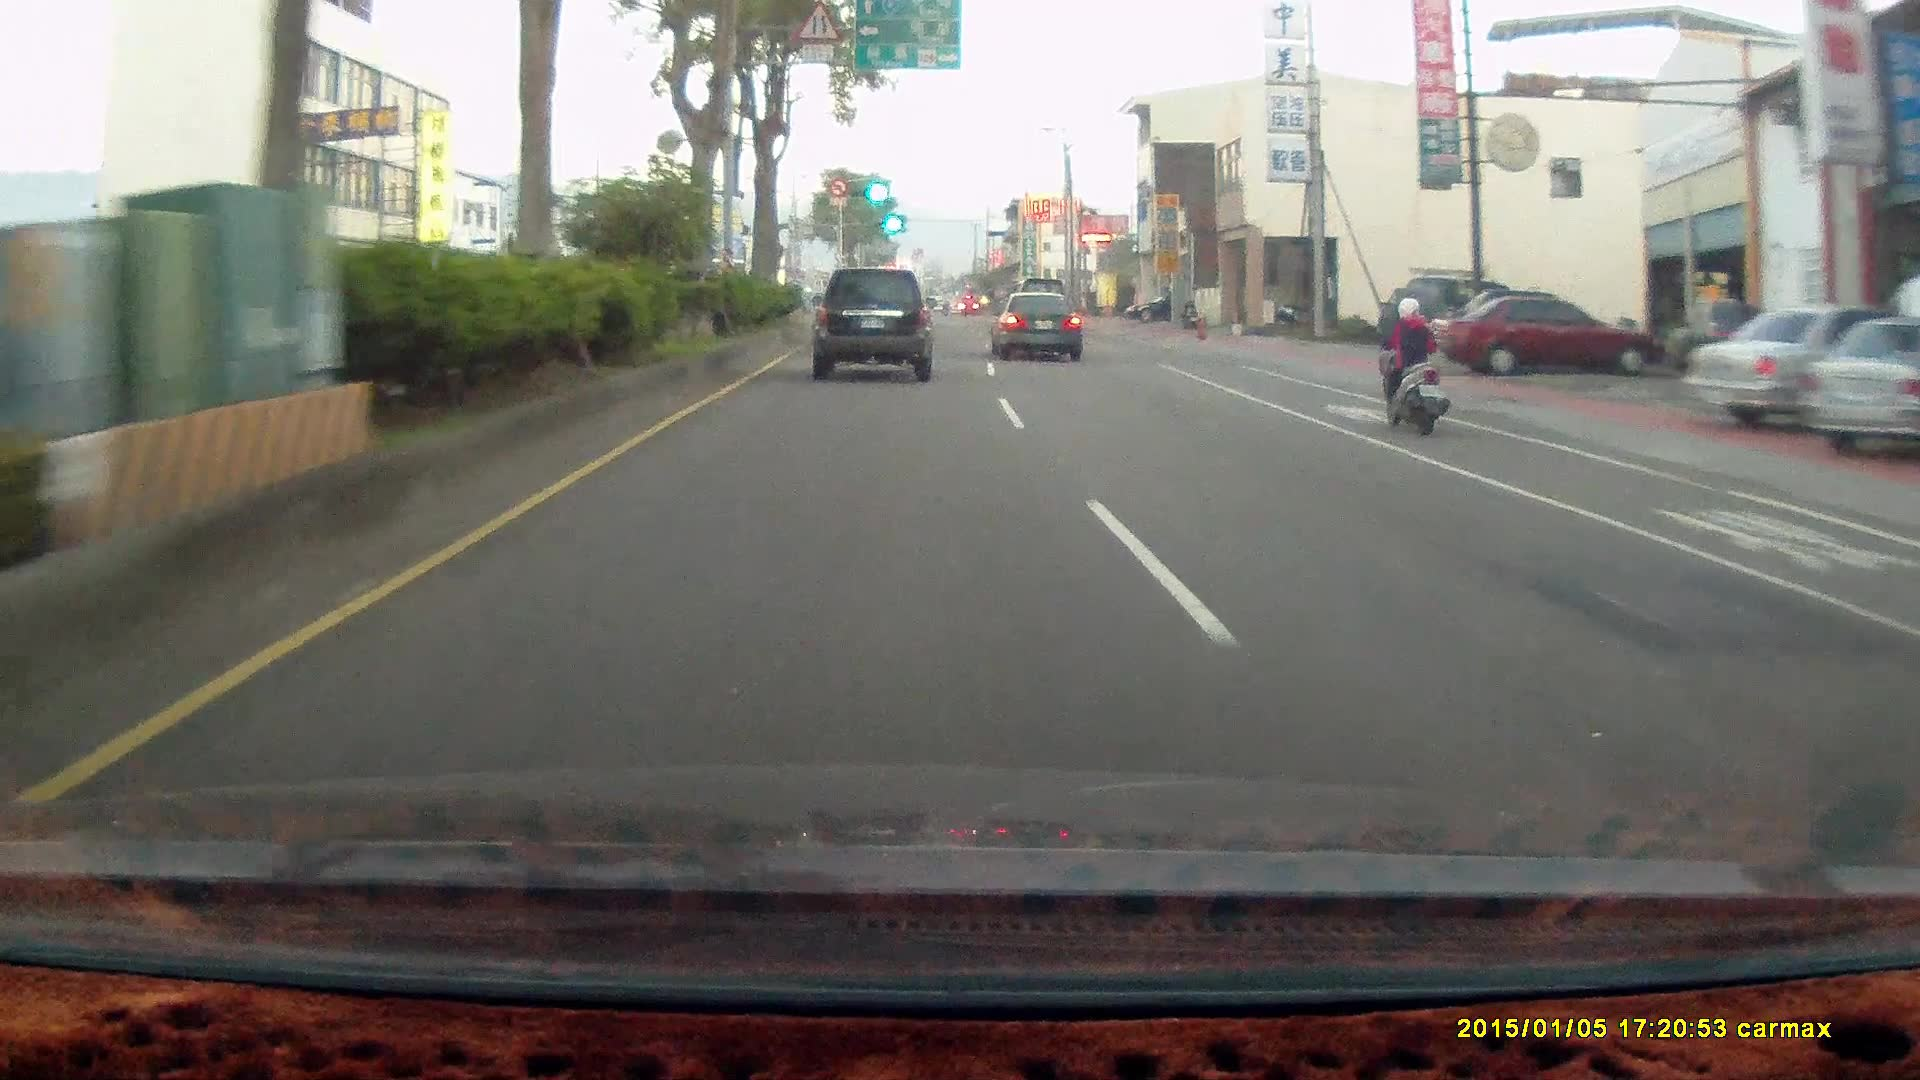rider: (1364, 285, 1462, 448), (1372, 292, 1446, 432)
vehicle: (1686, 306, 1900, 435), (1427, 295, 1660, 376), (1437, 297, 1655, 383), (1795, 315, 1920, 460), (1793, 315, 1920, 454), (811, 272, 937, 387), (812, 270, 934, 383), (1391, 273, 1528, 363), (1393, 275, 1520, 358), (1662, 299, 1768, 373), (992, 291, 1085, 362), (987, 287, 1080, 358), (1124, 291, 1198, 321)
